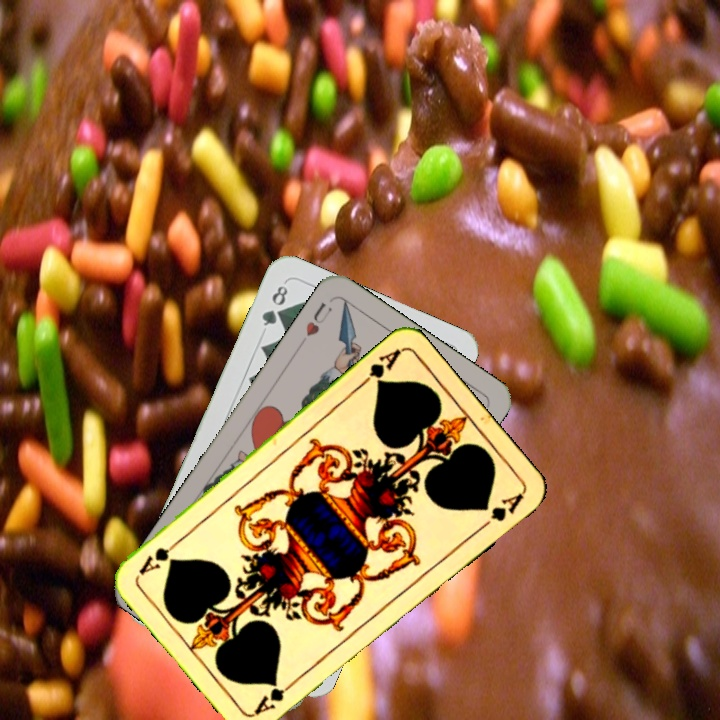G8: (257, 281, 291, 329)
GA: (250, 674, 301, 718), (355, 345, 404, 390)
HU: (301, 298, 335, 340)
